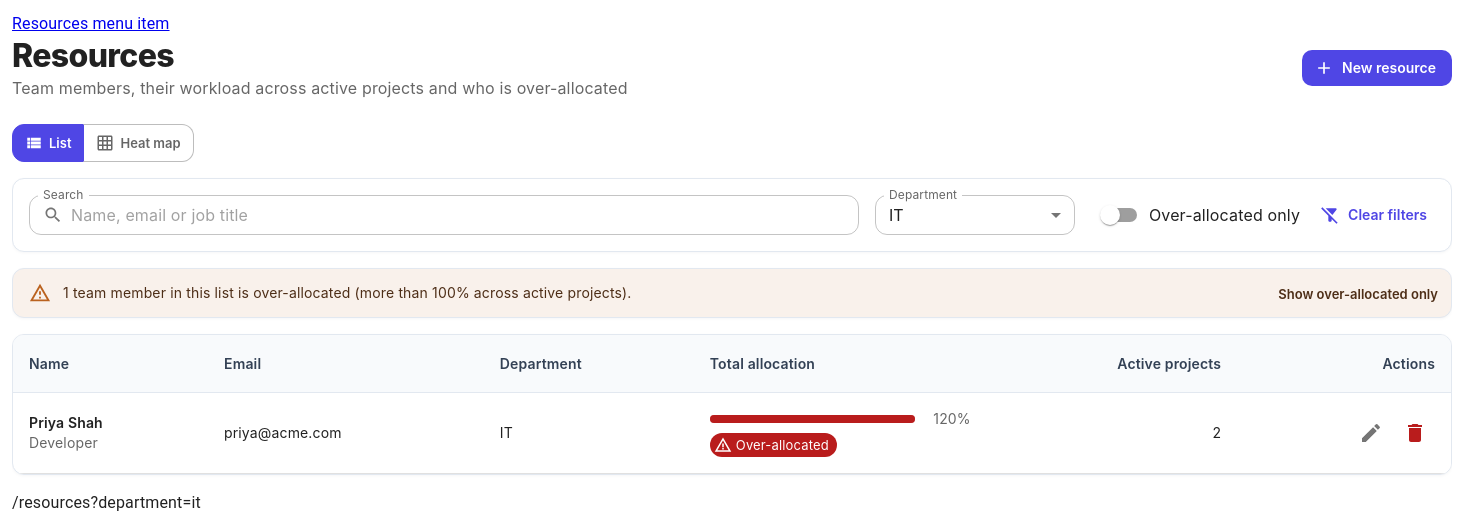
Test: ResourcesPage › selects the loaded department that the link spells in another case, without a second entry
Expected: the table named "Resources" is shown, [13, 335, 1451, 474]
Click the dropdown named "Department". click: (896, 215)
box: [889, 205, 904, 225]
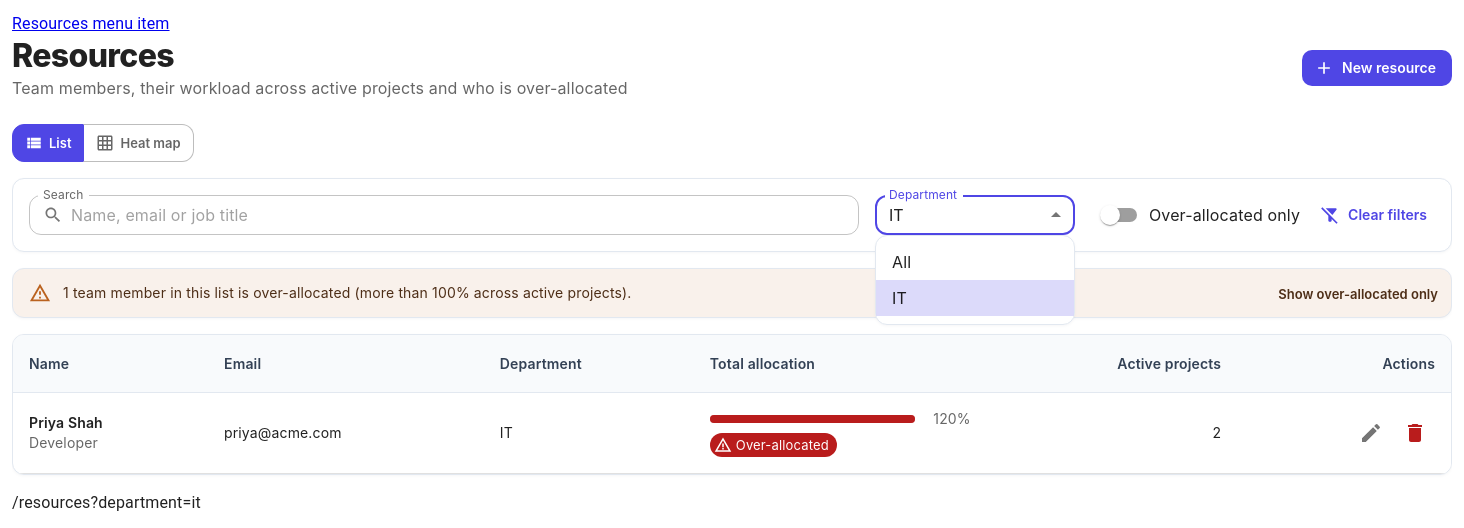
Press Escape
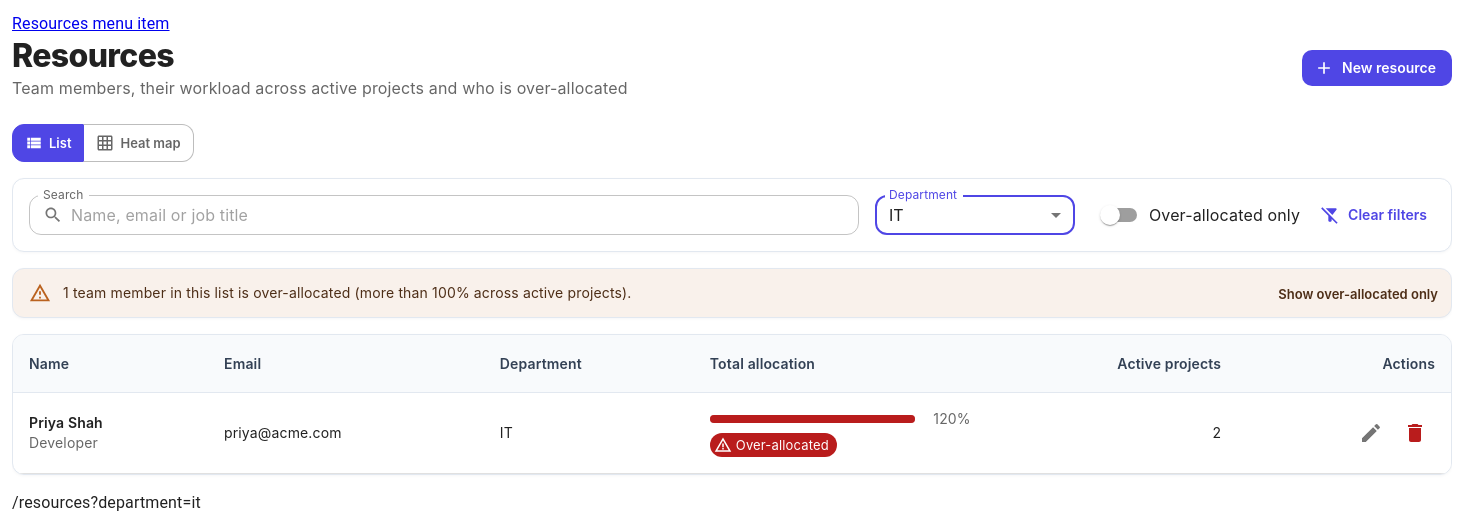
Now the list is gone
